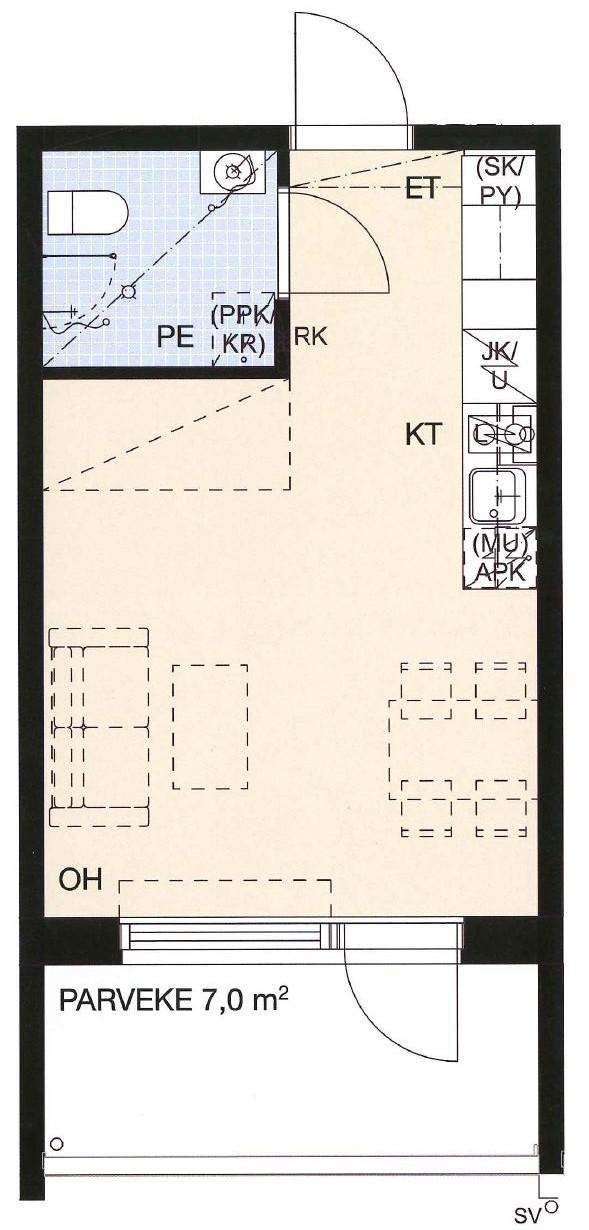bathroom: (43, 144, 276, 363)
door: (336, 912, 471, 1069), (289, 5, 421, 149), (272, 183, 395, 299)
perimeter: (16, 125, 567, 959)
window: (108, 907, 341, 979)
